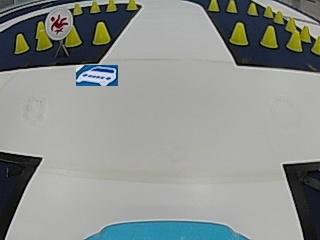cone: (229, 21, 249, 46), (92, 21, 110, 45), (260, 25, 277, 48), (35, 27, 50, 50), (286, 29, 301, 52), (65, 27, 82, 47), (14, 32, 27, 54), (247, 1, 258, 16), (311, 35, 319, 55), (300, 25, 309, 42), (207, 0, 219, 12), (226, 0, 237, 13), (274, 9, 283, 24), (106, 0, 117, 12), (90, 1, 100, 14), (264, 4, 273, 18), (73, 2, 82, 15), (126, 0, 137, 10)
tumble: (46, 10, 71, 37)
